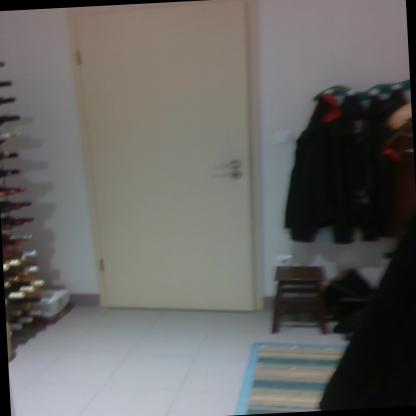closed: (59, 0, 274, 328)
